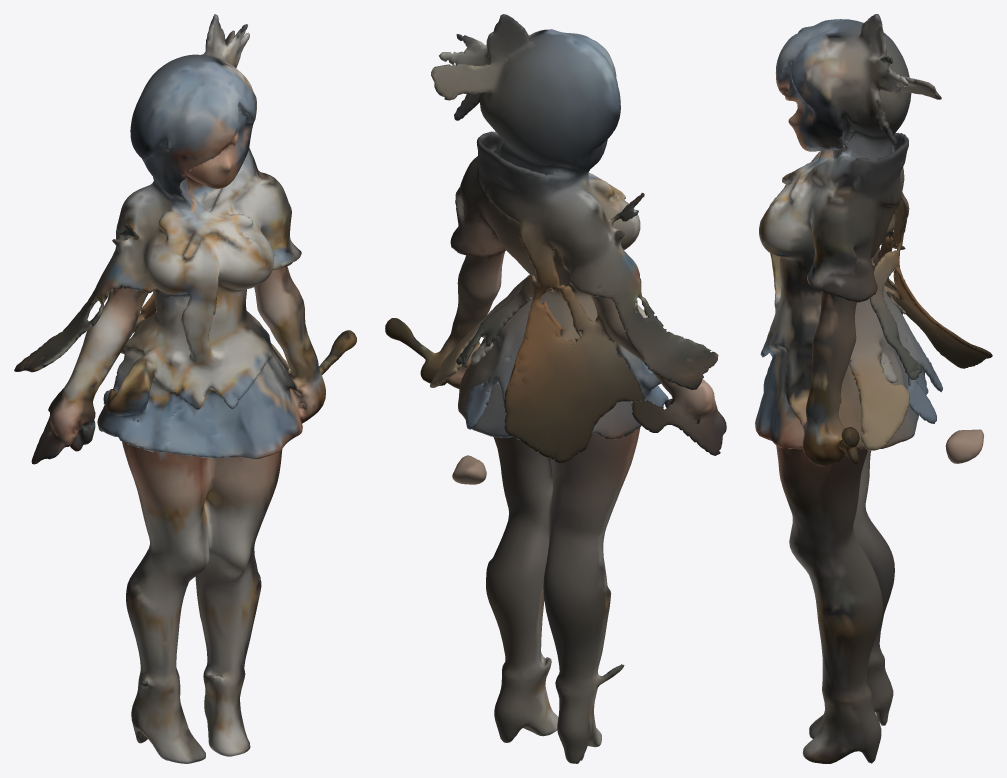
File: sora.glb
3 views of the same model, side by side, from view 1: azimuth 30°, elevation 25°; view 2: azimuth 150°, elevation 25°; view 3: azimuth 270°, elevation 25° (orthographic). The views are drawn at different scales.
Visible parts, largest first — view 1: tmpusirxuno.ply; view 2: tmpusirxuno.ply; view 3: tmpusirxuno.ply.
Part boxes in pixels (x1=…): tmpusirxuno.ply: x1=14, y1=14, x2=356, y2=763; tmpusirxuno.ply: x1=385, y1=14, x2=726, y2=763; tmpusirxuno.ply: x1=755, y1=14, x2=992, y2=763.
Bounding box in the file's own units: 0.9356 × 1.96 × 0.5654.
